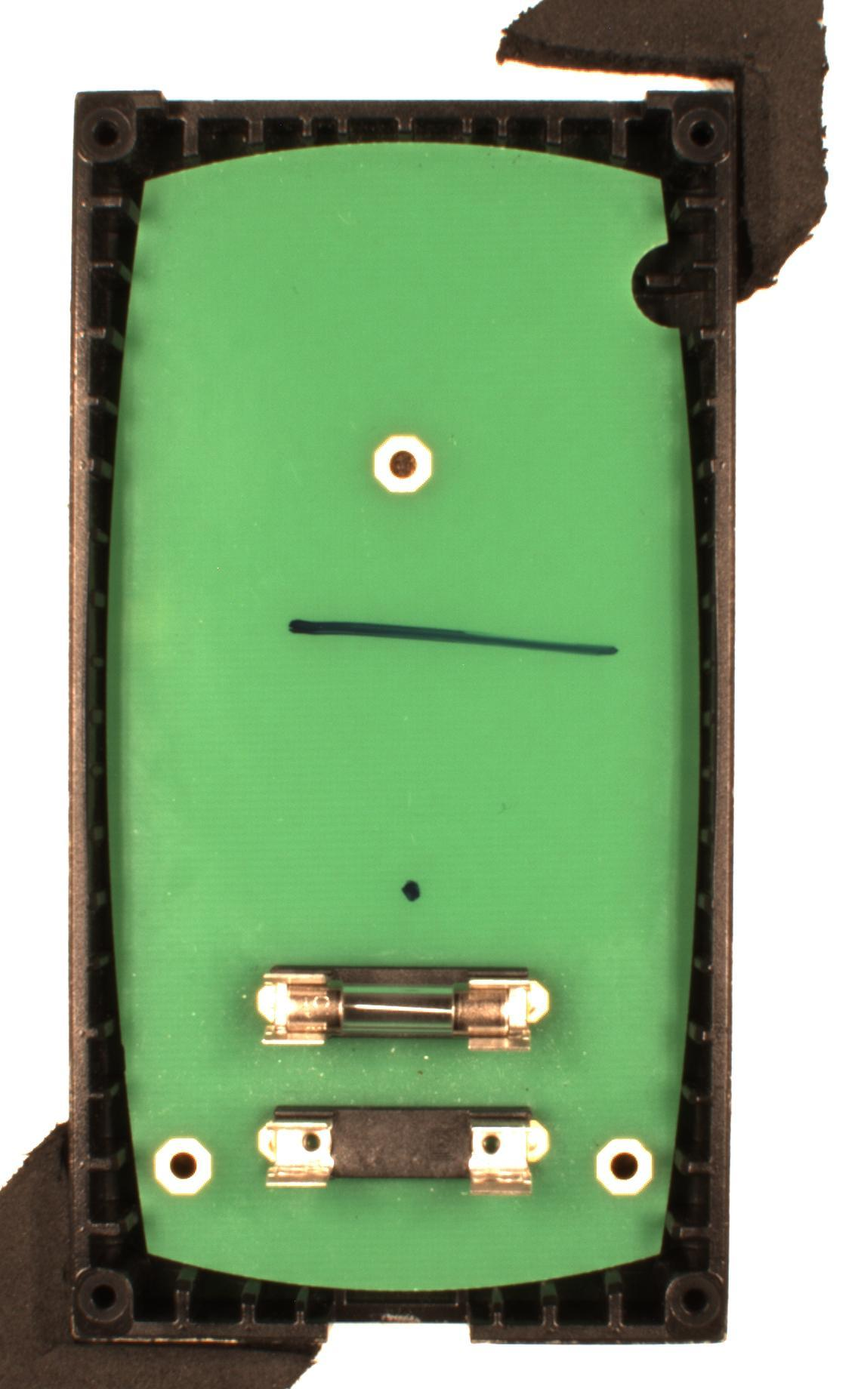Linijsko Ostecene: (286, 616, 622, 667)
Nepostojanje osiguraca: (256, 1101, 555, 1199)
Tockasto Ostecenje: (400, 876, 424, 905)
